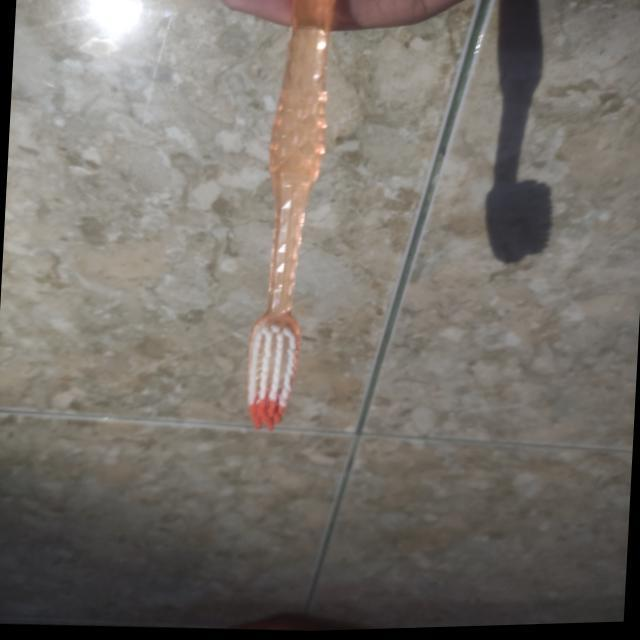toothbrush: (220, 1, 374, 456)
